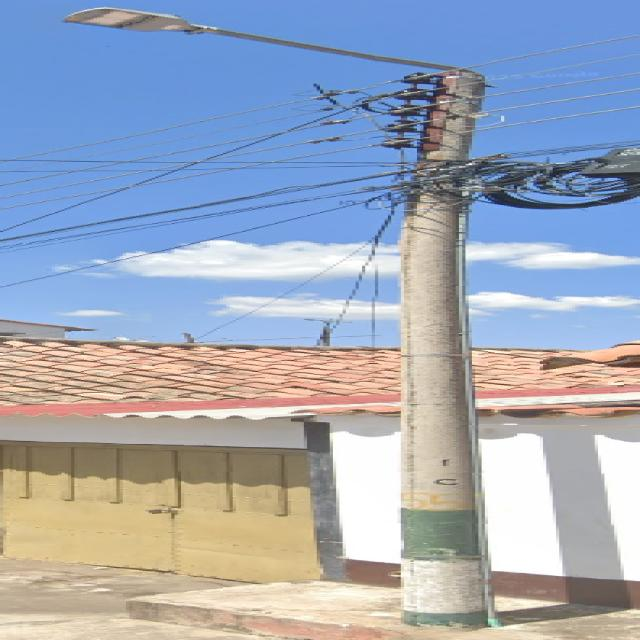Poste: (68, 7, 491, 628)
